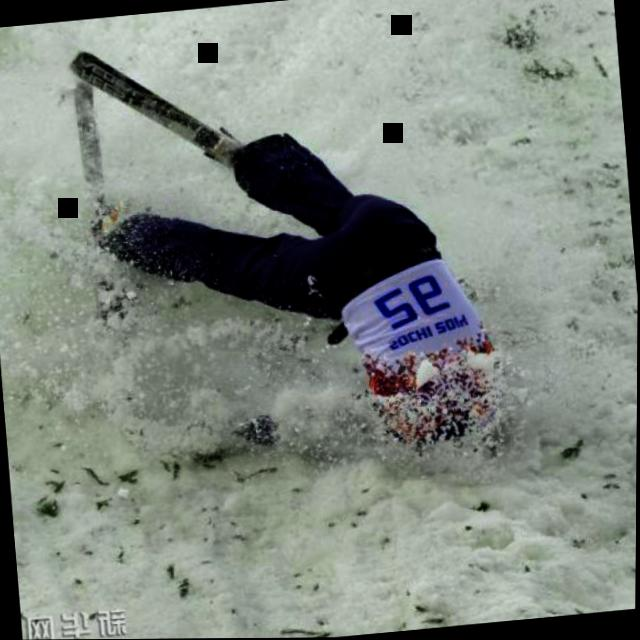Fall-Detected: (46, 5, 524, 517)
